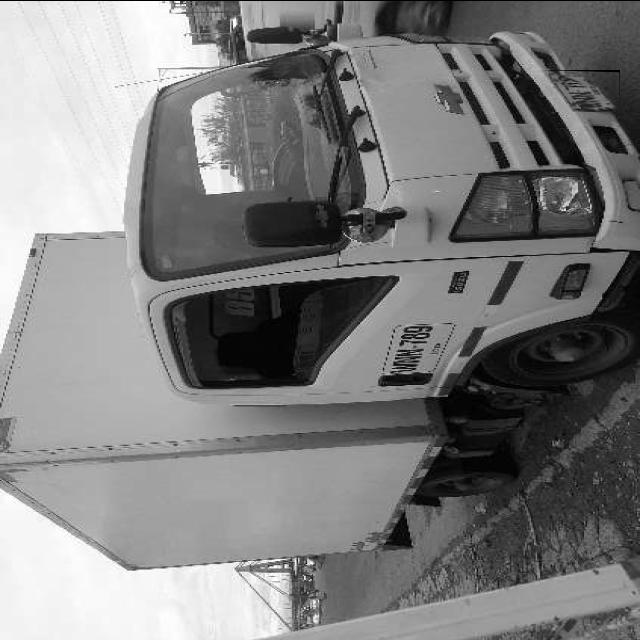plate: (541, 69, 620, 111)
